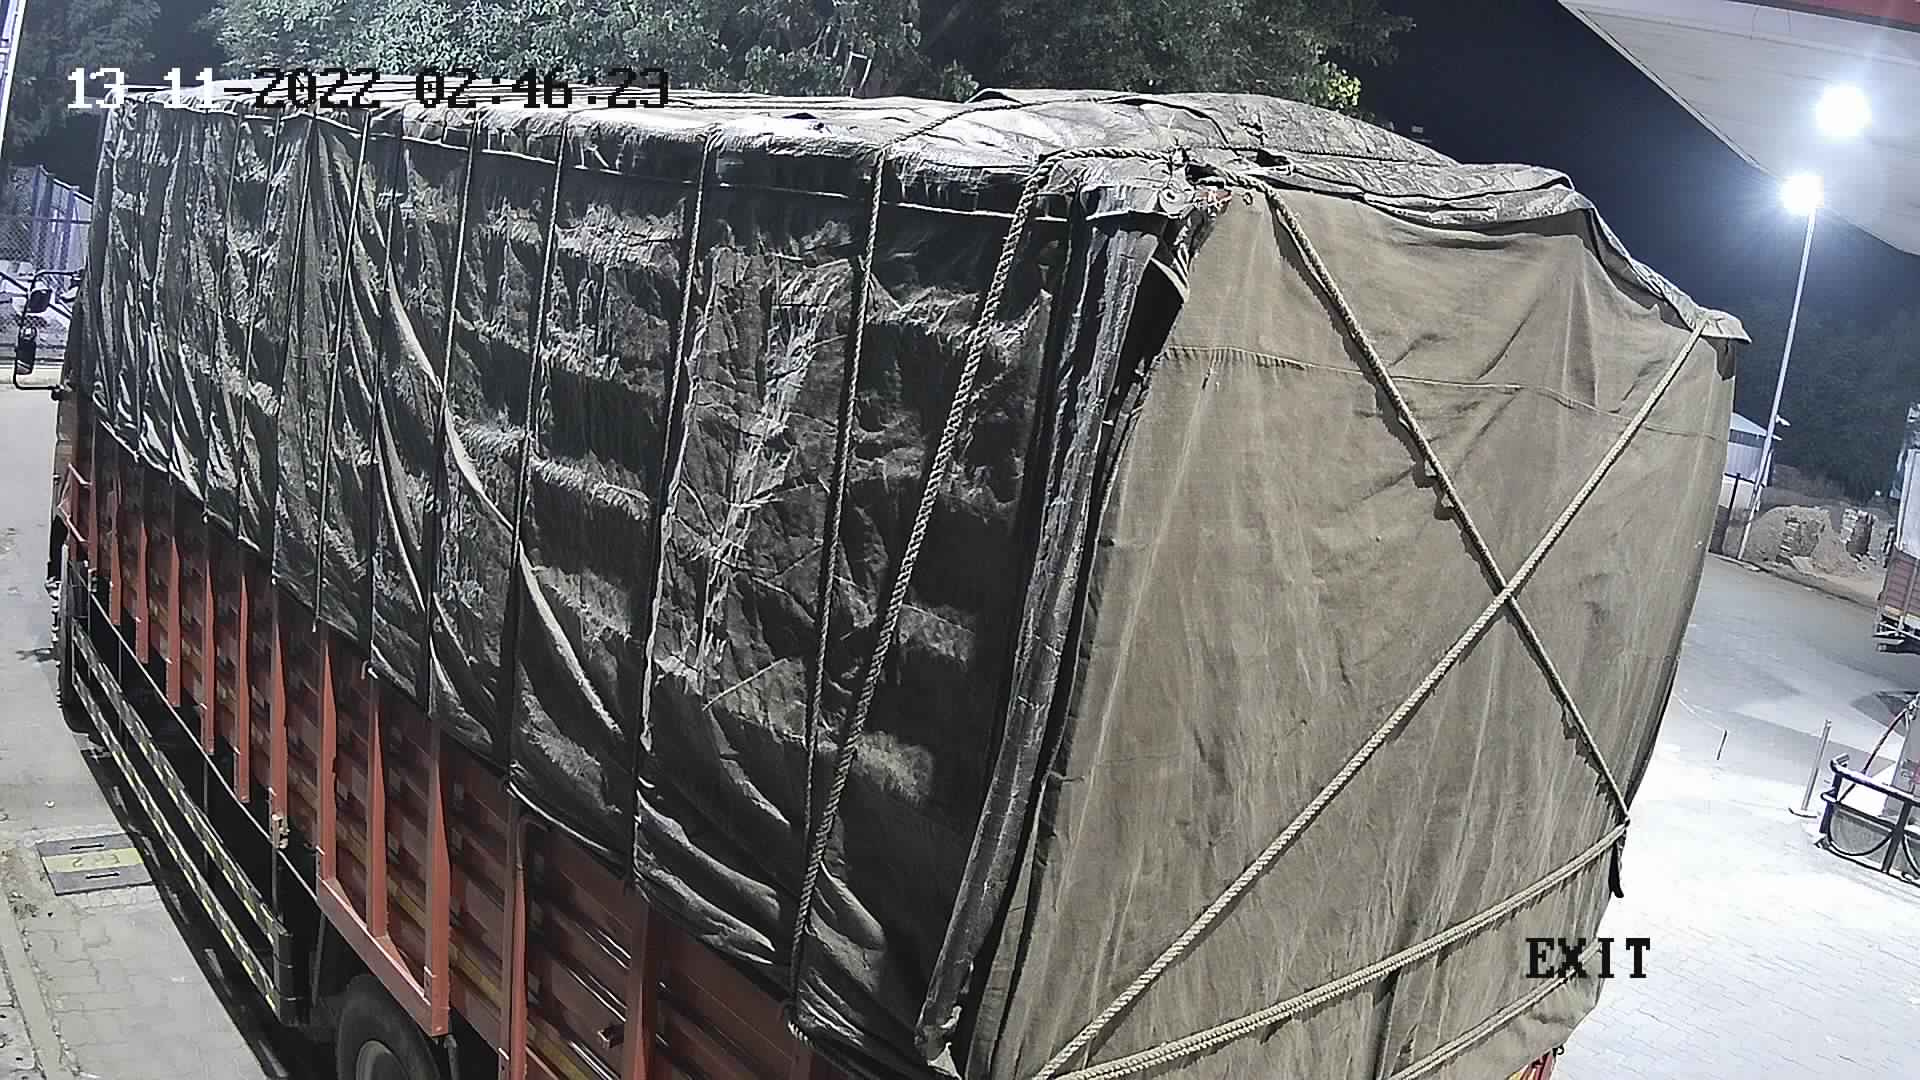HMV: (4, 57, 1785, 1076), (1867, 393, 1917, 686)
